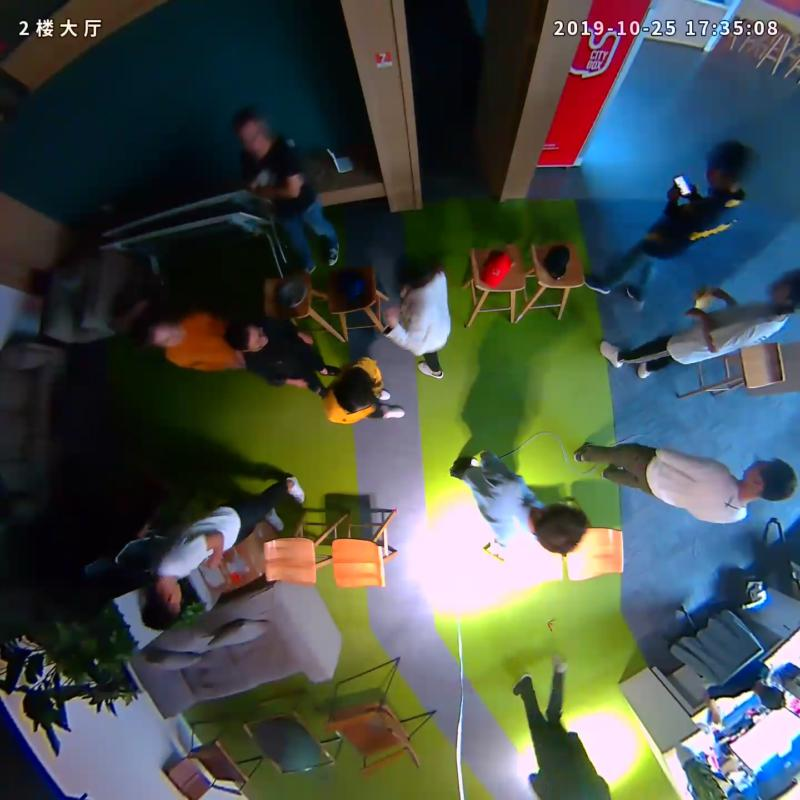head: (536, 496, 588, 554), (742, 458, 799, 502), (708, 140, 755, 192), (141, 578, 184, 630), (391, 254, 437, 297), (334, 366, 376, 413), (234, 105, 269, 150), (766, 268, 800, 310), (143, 316, 185, 349), (225, 320, 268, 352)
